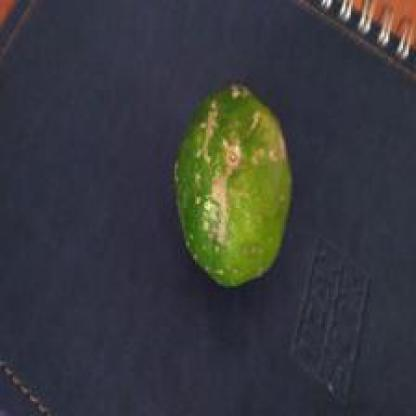orange_rotten: (150, 43, 355, 328)
